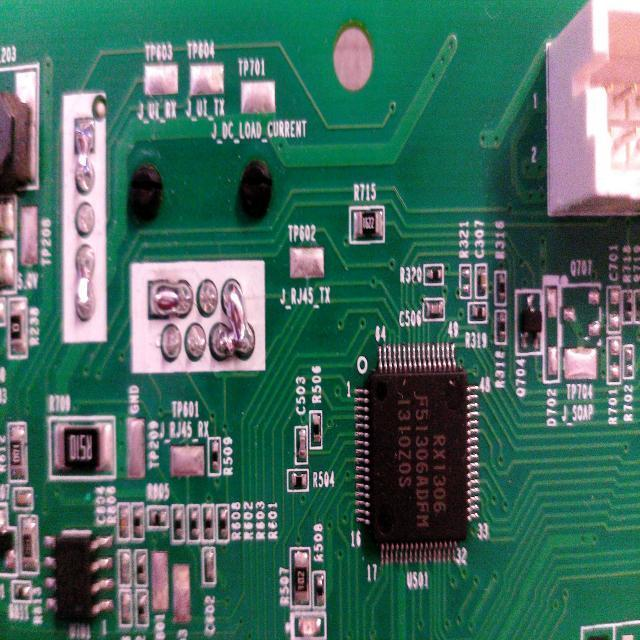Soldering shorted: (212, 276, 256, 364), (142, 274, 195, 324), (71, 238, 98, 330), (70, 115, 96, 198)
